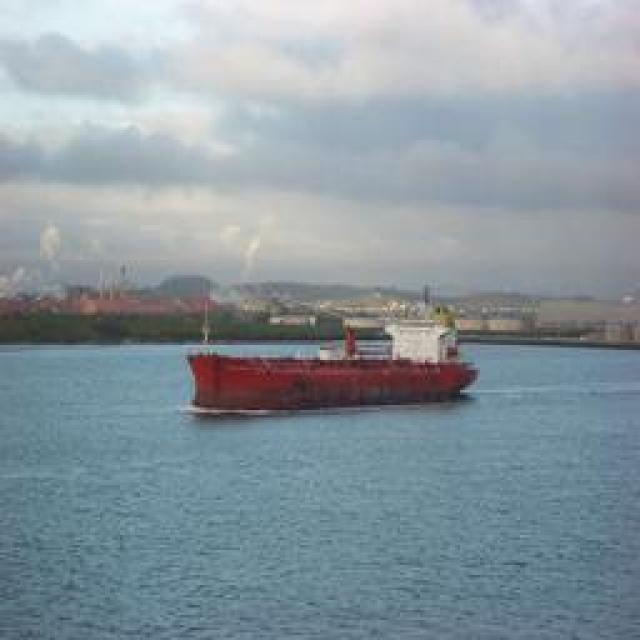CIV_Ship: (182, 321, 480, 414)
